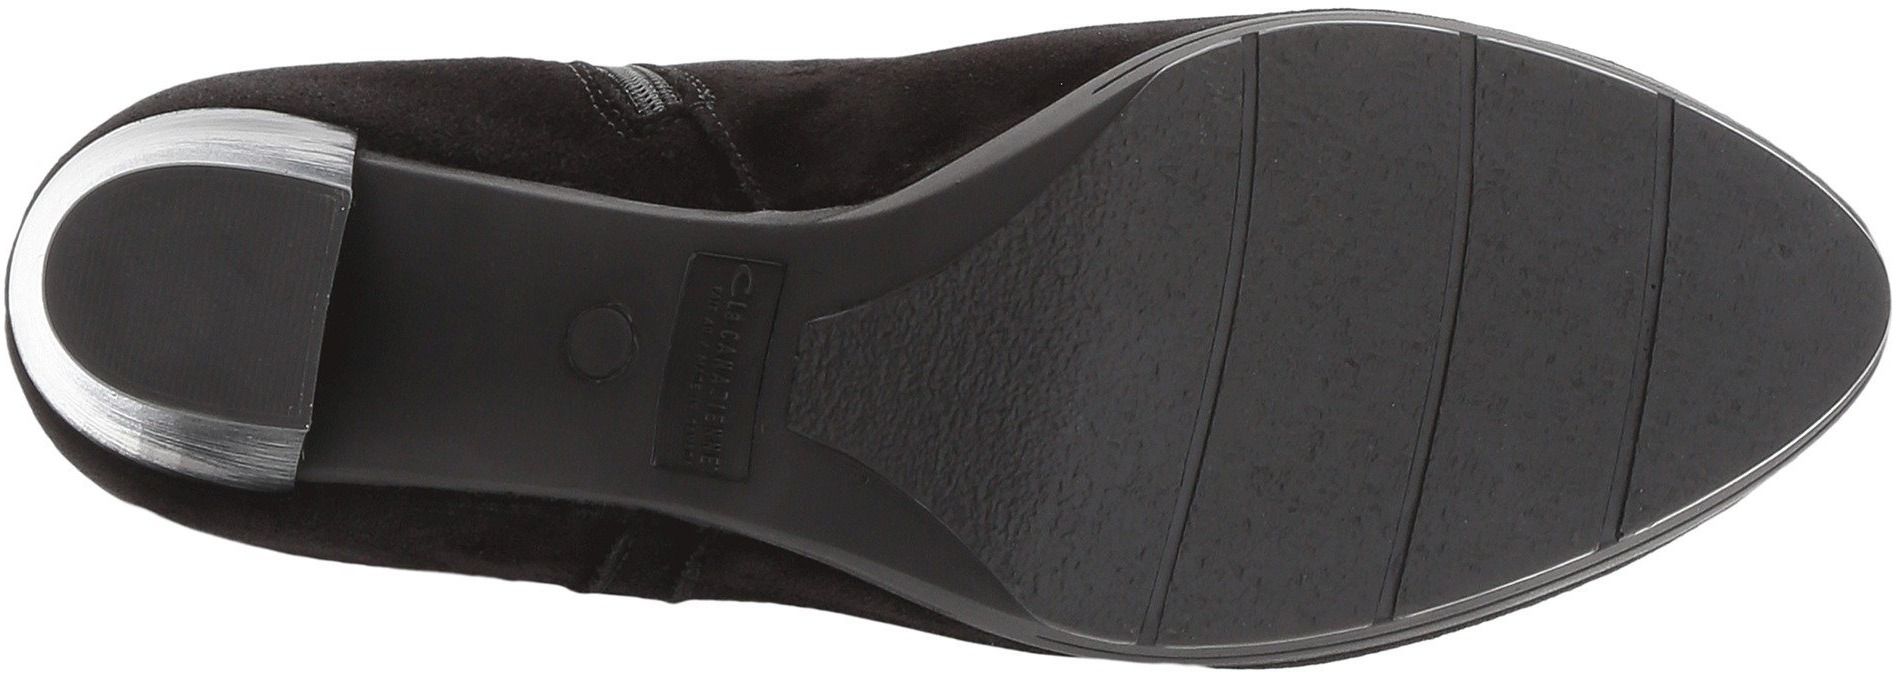other: (975, 256, 1177, 479), (101, 192, 301, 384), (1259, 46, 1465, 232), (1244, 270, 1427, 464), (1672, 216, 1861, 403), (1482, 130, 1653, 300), (1204, 473, 1368, 627), (1457, 371, 1613, 529), (825, 310, 971, 462)
